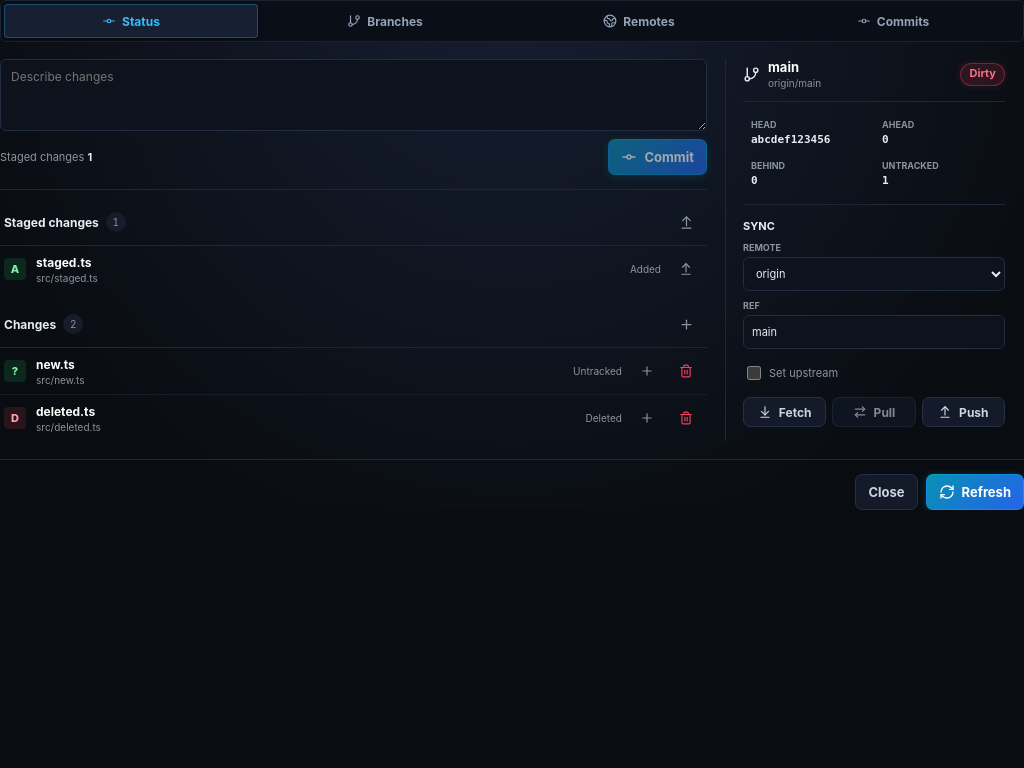
Test: keeps the discard confirmation open and prevents duplicate submissions while a request is pending
Click the button named "Discard: src/deleted.ts".
click(686, 418)  # box [669,401,703,435]
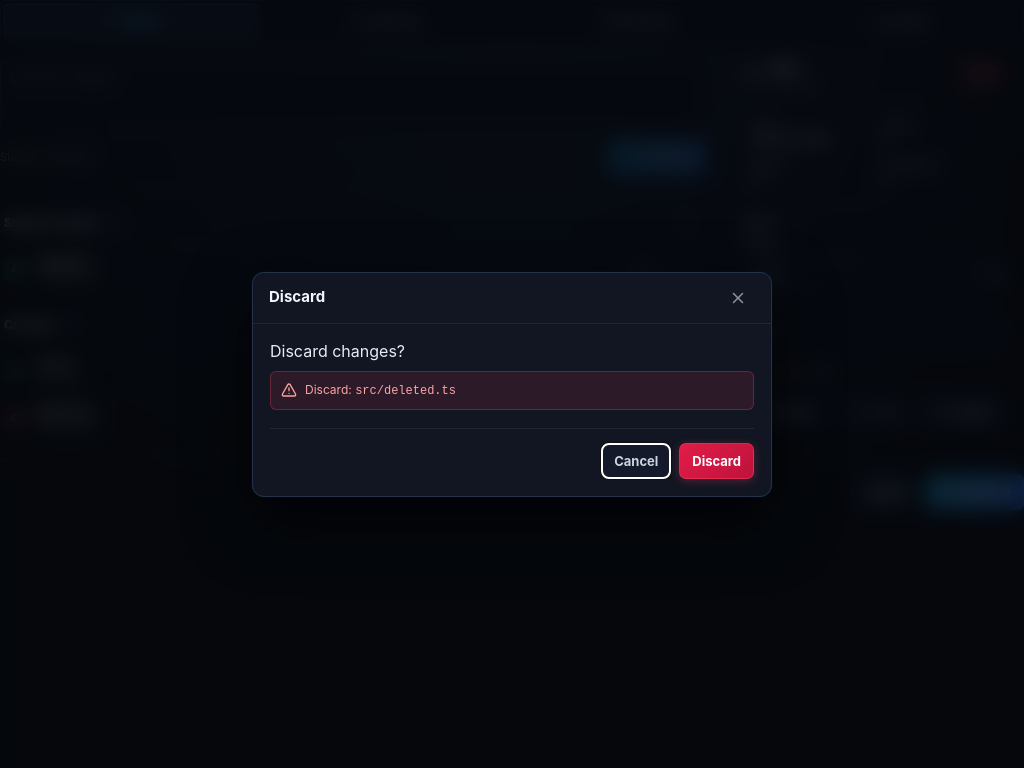
Click the button "Discard".
click(717, 460)  # box [679,442,754,478]
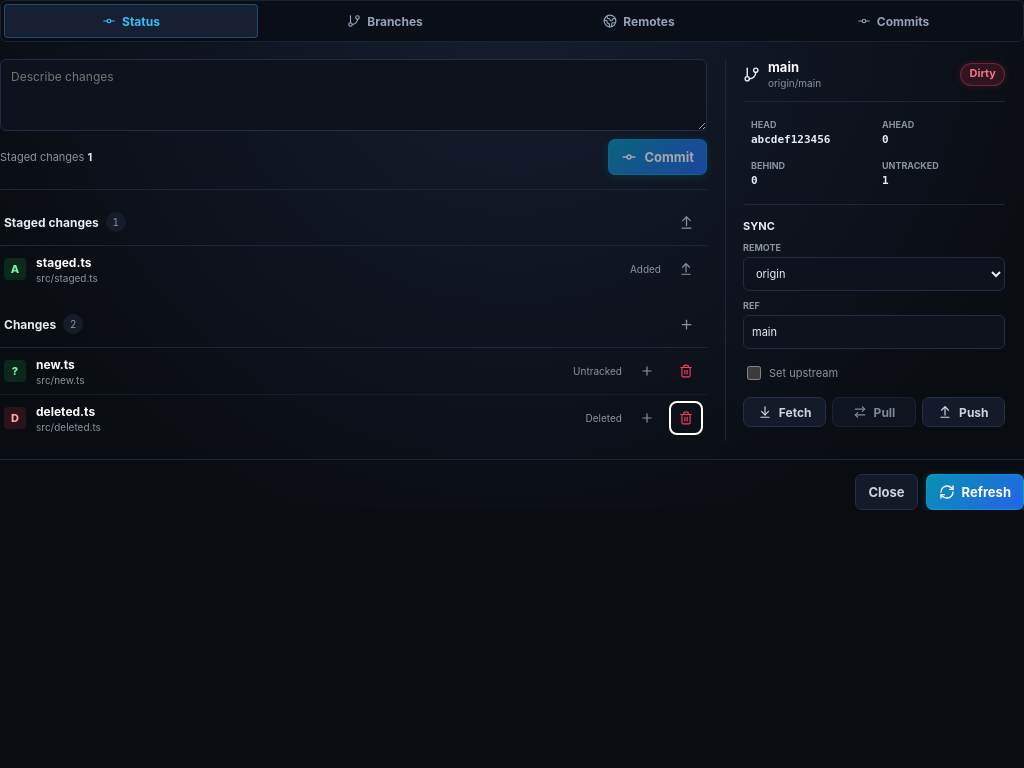
Now the heading "Discard" is gone
